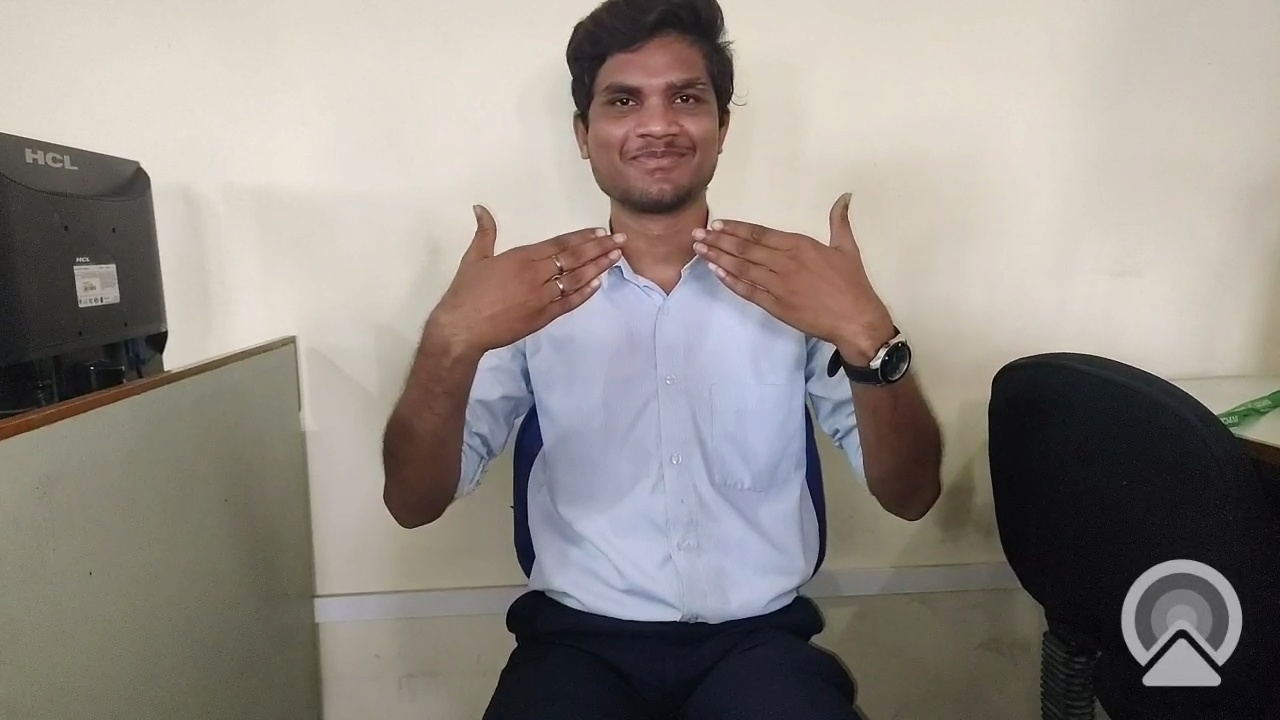Thank you: (390, 177, 950, 461)
